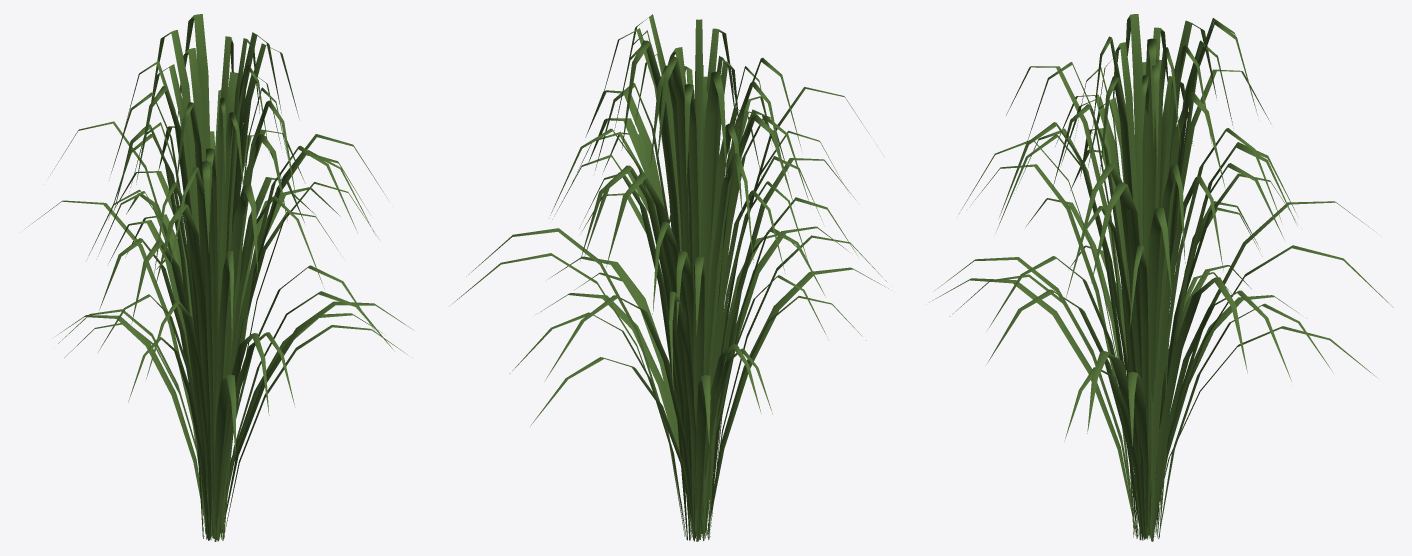
File: ornamental_grass_05.glb
3 views of the same model, side by side, from view 1: azimuth 30°, elevation 25°; view 2: azimuth 150°, elevation 25°; view 3: azimuth 270°, elevation 25° (orthographic). The views are drawn at different scales.
Visible parts, largest first — view 1: ORNAMENTAL_GRASS_05; view 2: ORNAMENTAL_GRASS_05; view 3: ORNAMENTAL_GRASS_05.
Part boxes in pixels (x1,y1,x2,y2): ORNAMENTAL_GRASS_05: (25, 14, 412, 541); ORNAMENTAL_GRASS_05: (450, 14, 888, 541); ORNAMENTAL_GRASS_05: (929, 14, 1393, 541).
Bounding box in the file's own units: 0.663 × 1.03 × 0.8437.
